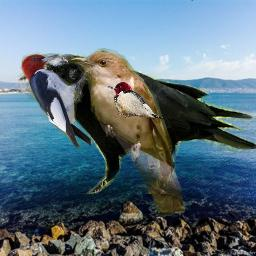Crow: (14, 54, 256, 194)
Cuckoo: (68, 48, 185, 216)
Woodpecker: (19, 50, 96, 150), (107, 82, 165, 119)
